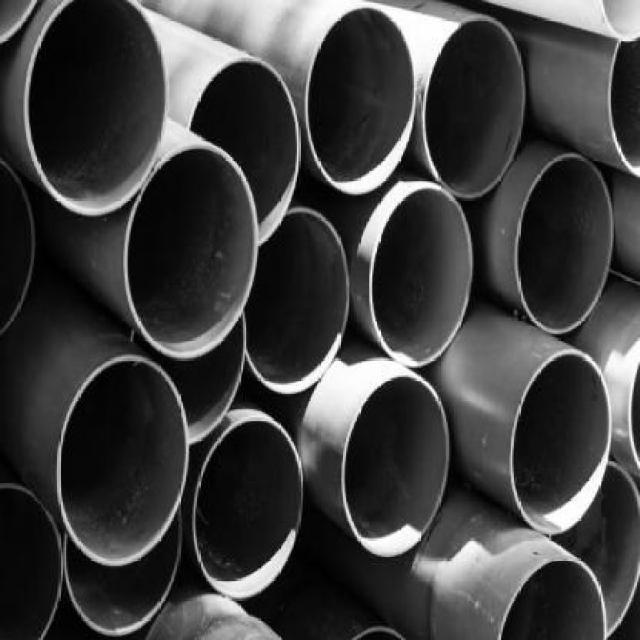pipe: (22, 0, 168, 215), (123, 143, 259, 359), (56, 353, 190, 567), (305, 5, 418, 196), (188, 57, 301, 245), (191, 416, 304, 599), (342, 373, 451, 558), (245, 207, 350, 396), (369, 184, 474, 367), (510, 350, 612, 533), (423, 16, 526, 197), (513, 152, 615, 334), (123, 303, 246, 446), (547, 457, 640, 640), (64, 506, 184, 637), (0, 480, 66, 640), (495, 557, 608, 639), (0, 152, 42, 343)
